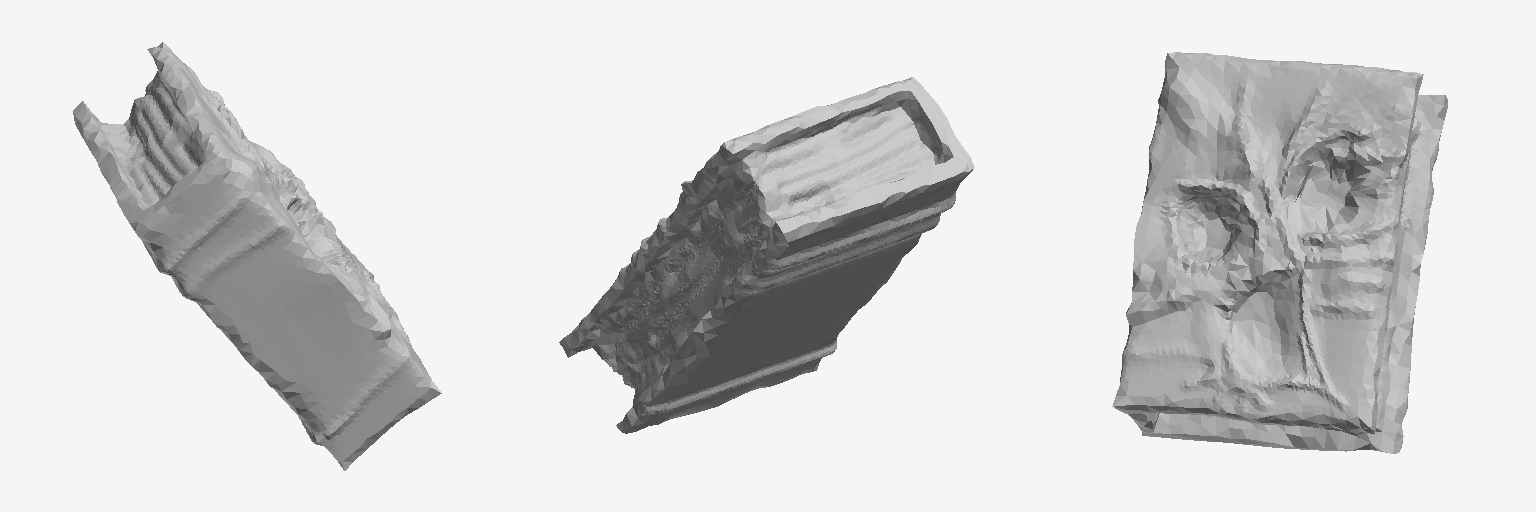
Rendered from Book.obj.
The picture shows the model from 3 angles: view 1: azimuth 30°, elevation 25°; view 2: azimuth 150°, elevation 25°; view 3: azimuth 270°, elevation 25°; orthographic projection.
Visible parts, largest first — view 1: Book_Cube.001; view 2: Book_Cube.001; view 3: Book_Cube.001.
Boxes of the visible parts, box(x1,y1,x2,y2) form: Book_Cube.001: box(73, 42, 441, 470); Book_Cube.001: box(559, 77, 974, 433); Book_Cube.001: box(1112, 52, 1447, 453).
Size of the model in its own units: 1.03 by 1.02 by 0.9102.